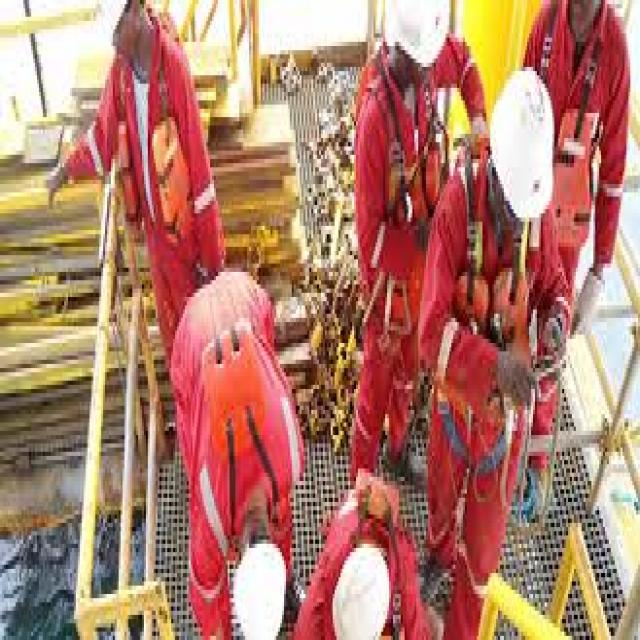Reflective-Jacket: (346, 50, 477, 356), (94, 38, 228, 301)
Safety-Helmet: (484, 59, 560, 230), (376, 0, 457, 71)
